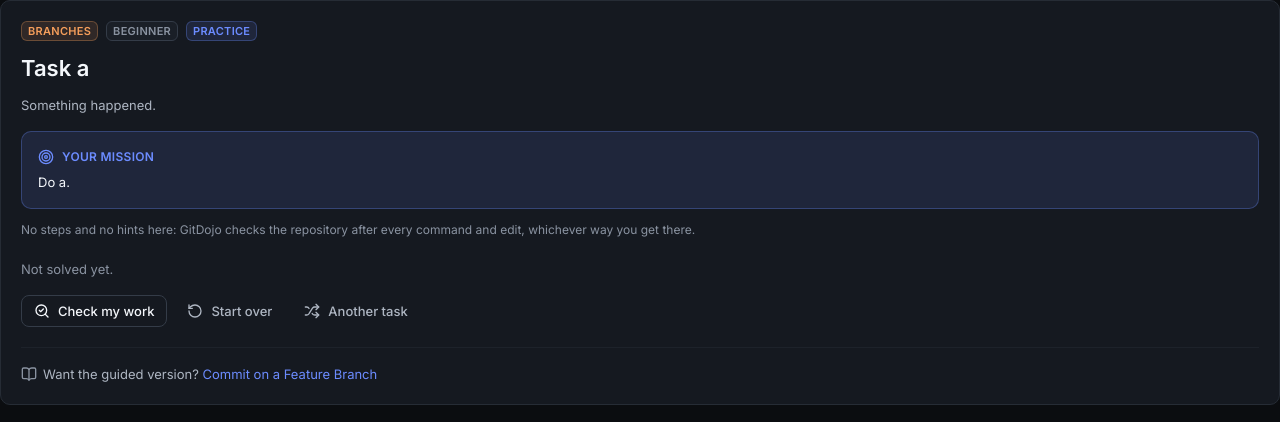
Test: PracticePanel › checks on request and names one thing that is not there yet
Click the button with test id "practice-check" at coordinates (94, 311), box [21, 295, 167, 327]
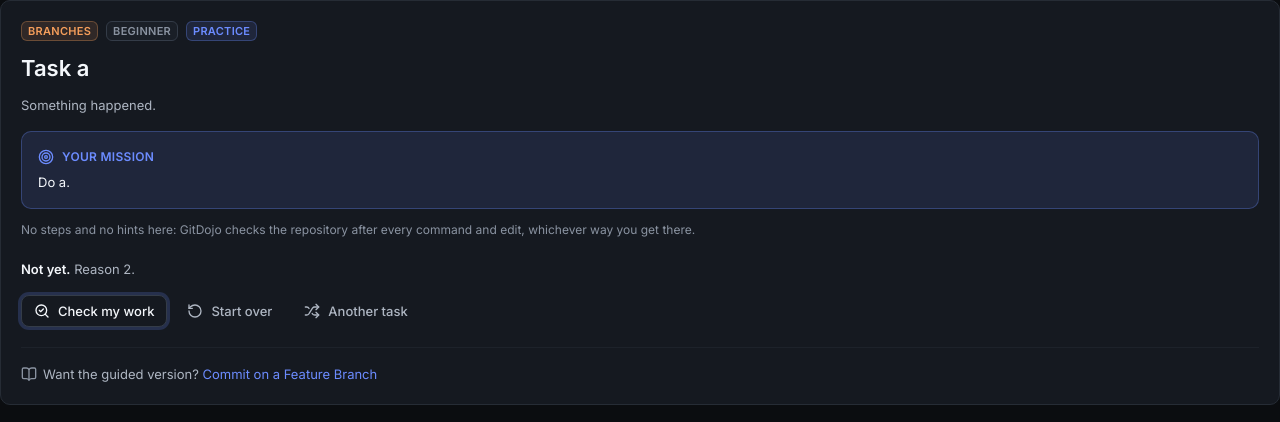
Result: the element with test id "practice-feedback" reads "Not yet. Reason 2." at [21, 261, 135, 277]
